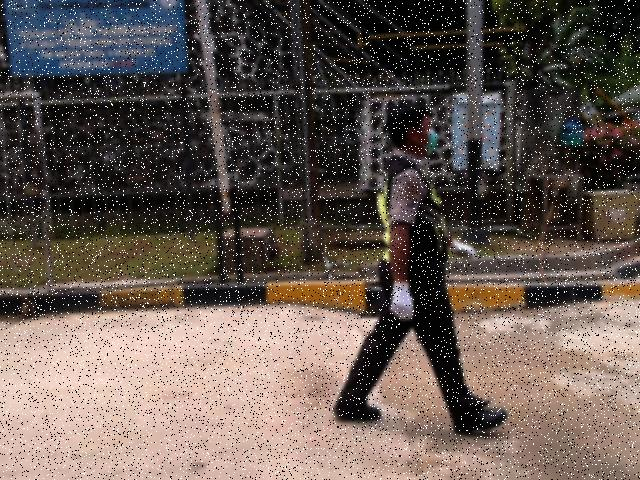gloves: (387, 278, 415, 324), (447, 235, 478, 265)
mask: (426, 130, 440, 156)
safety-shoes: (447, 404, 509, 436), (331, 397, 383, 424)
